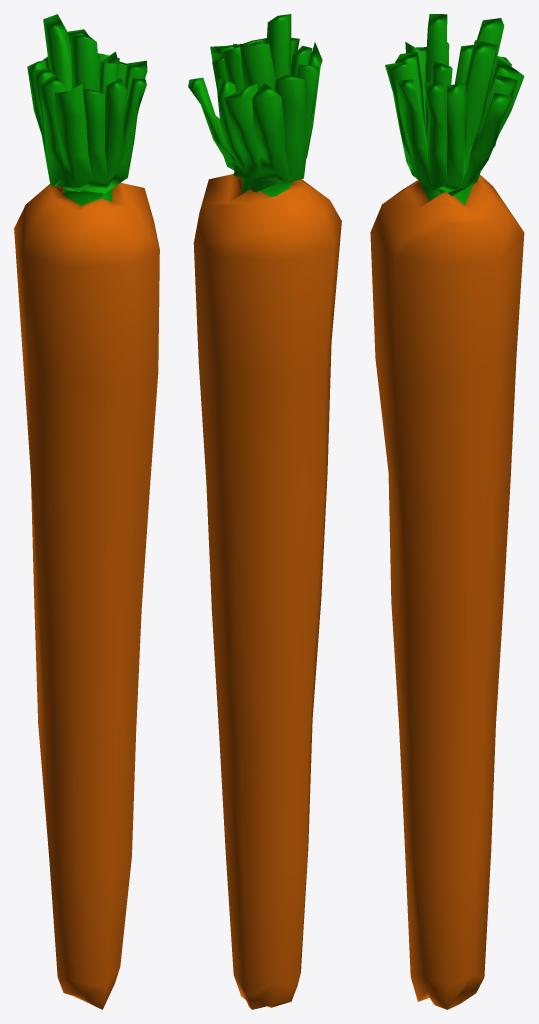
The model's file is carrot.fbx.
The picture shows the model from 3 angles, left to right: view 1: azimuth 30°, elevation 25°; view 2: azimuth 150°, elevation 25°; view 3: azimuth 270°, elevation 25°; orthographic projection. The views are drawn at different scales.
Parts seen in each view (by area): view 1: Cylinder; view 2: Cylinder; view 3: Cylinder.
Boxes of the visible parts, left/top/right/bottom form: Cylinder: left=14, top=14, right=159, bottom=1009; Cylinder: left=188, top=14, right=341, bottom=1009; Cylinder: left=370, top=14, right=524, bottom=1009.
Bounding box in the file's own units: 42.02 × 295 × 42.07.
